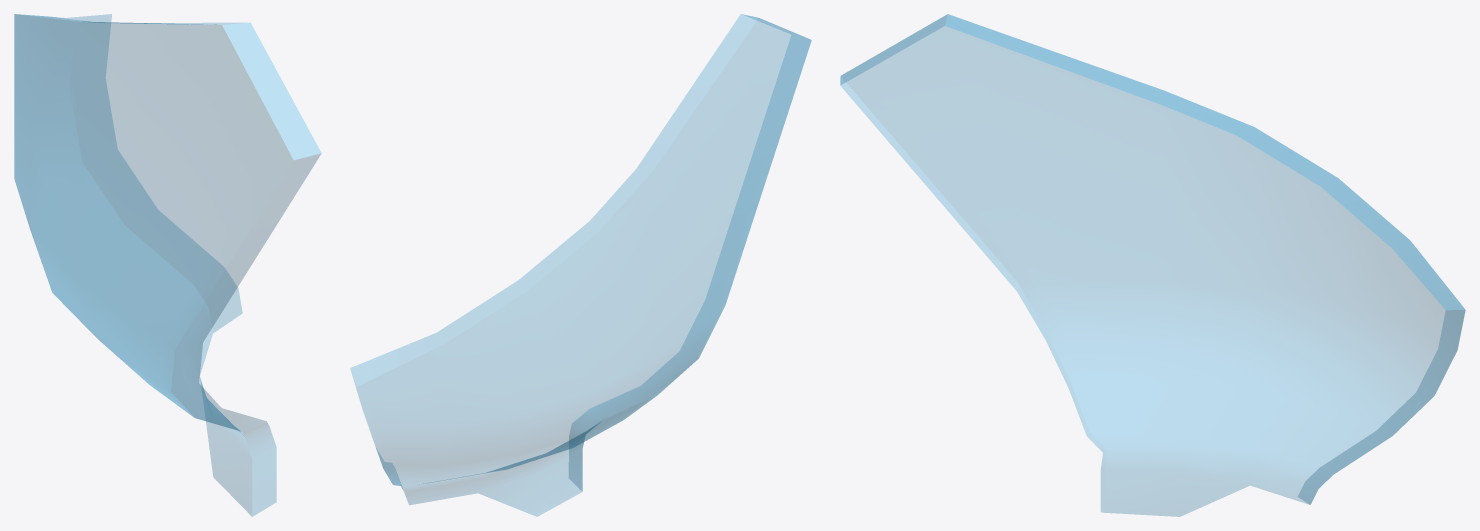
File: p_hvs_minidungeon_rewardlocker_shatterglass_part06.fbx
The picture shows the model from 3 angles, left to right: view 1: azimuth 30°, elevation 25°; view 2: azimuth 150°, elevation 25°; view 3: azimuth 270°, elevation 25°; orthographic projection. The views are drawn at different scales.
Visible parts, largest first — view 1: 6_shatterglass; view 2: 6_shatterglass; view 3: 6_shatterglass.
Part boxes in pixels (x1,y1,x2,y2): 6_shatterglass: [14, 14, 321, 516]; 6_shatterglass: [350, 14, 811, 516]; 6_shatterglass: [840, 14, 1465, 516].
Bounding box in the file's own units: 0.9193 × 2.06 × 2.6.
